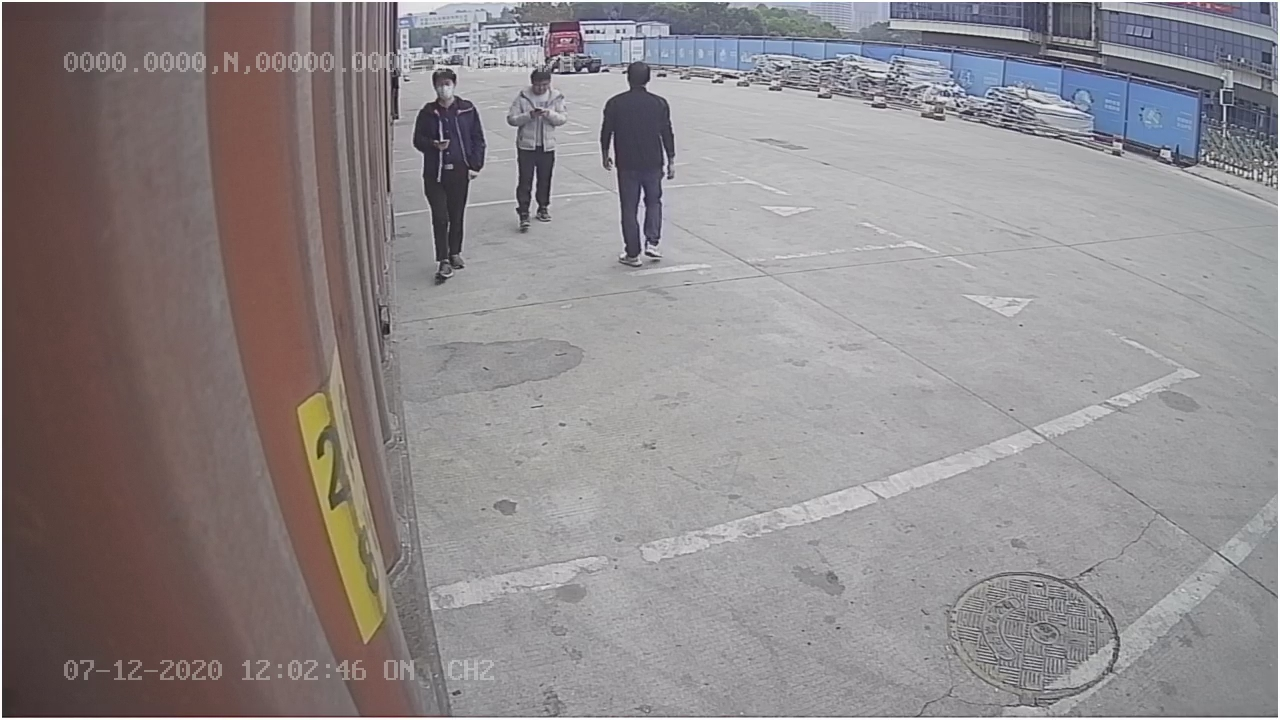person: (596, 56, 676, 267)
